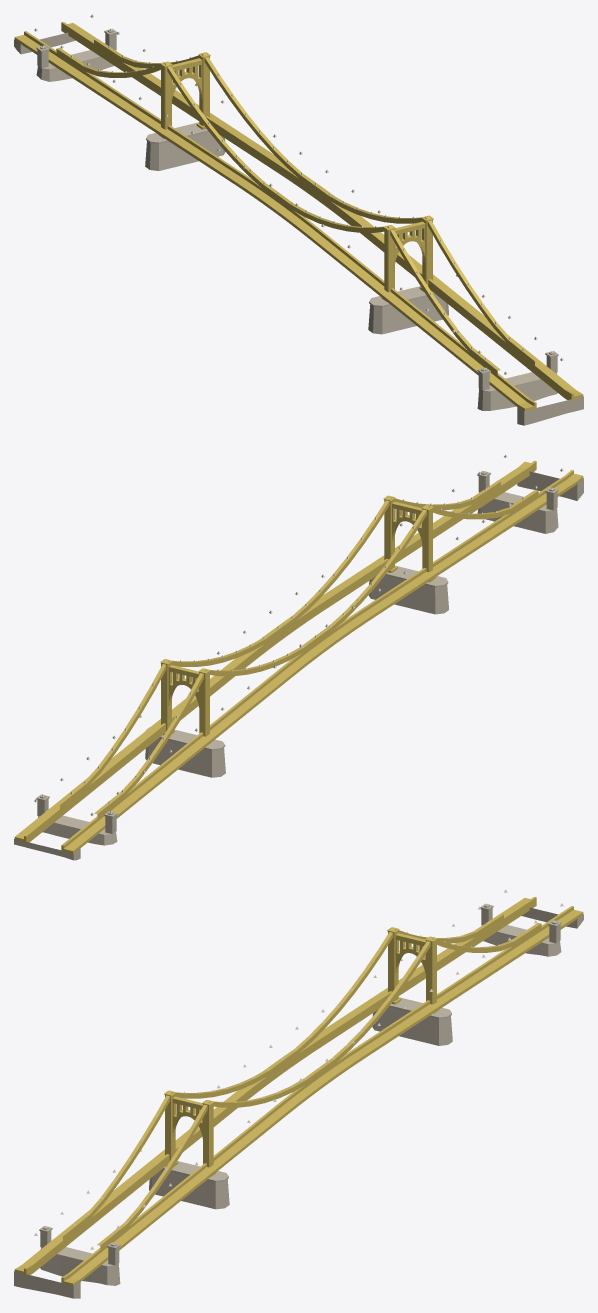
The model's file is pit-rachel-carson-bridge.glb.
3 renders of one model, top to bottom at view 1: azimuth 30°, elevation 25°; view 2: azimuth 150°, elevation 25°; view 3: azimuth 330°, elevation 25°, orthographic.
Visible parts, largest first — view 1: Rachel Carson Bridge; view 2: Rachel Carson Bridge; view 3: Rachel Carson Bridge.
Part boxes in pixels (x1=…): Rachel Carson Bridge: x1=14, y1=14, x2=583, y2=425; Rachel Carson Bridge: x1=14, y1=454, x2=583, y2=860; Rachel Carson Bridge: x1=14, y1=889, x2=583, y2=1298.
Size of the model in its own units: 26.1 by 32.9 by 302.
